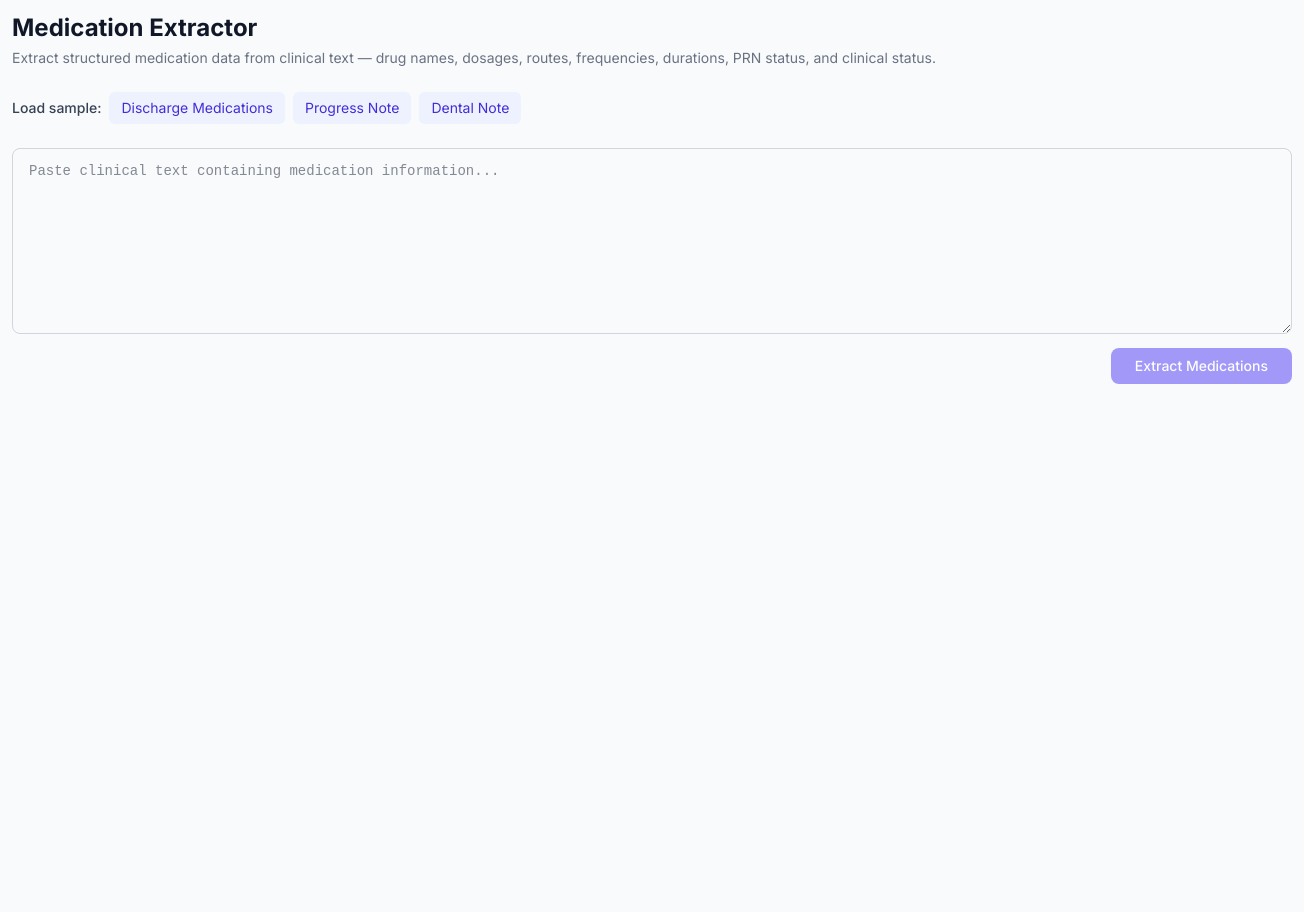
MedicationExtractor › shows medication indication
Type "test" into the text box with placeholder "Paste clinical text containing medication information...". click: point(652, 241)
box: [12,148,1292,334]
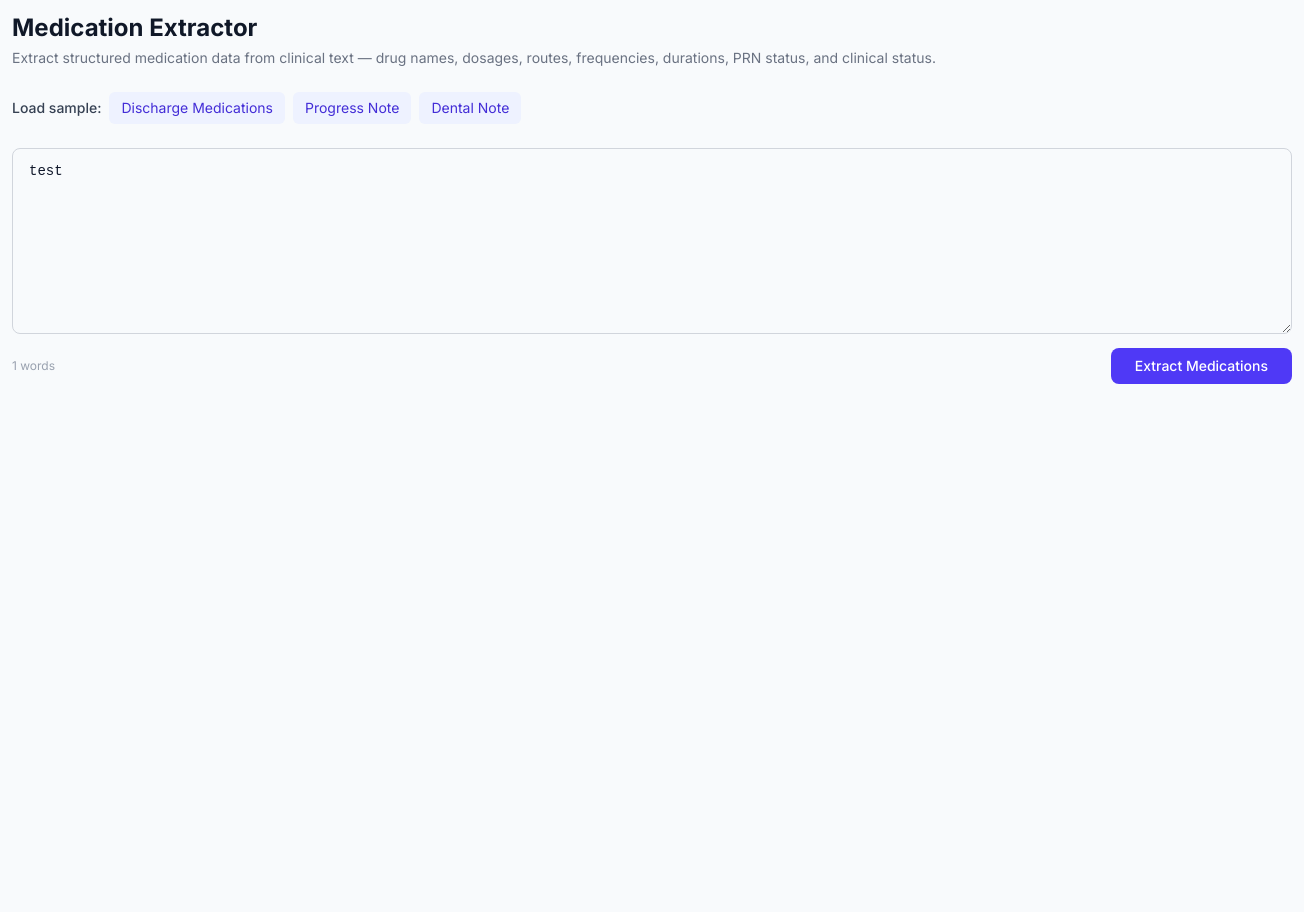
Click the button "Extract Medications". click: point(1201, 366)
box: [1111,348,1292,384]
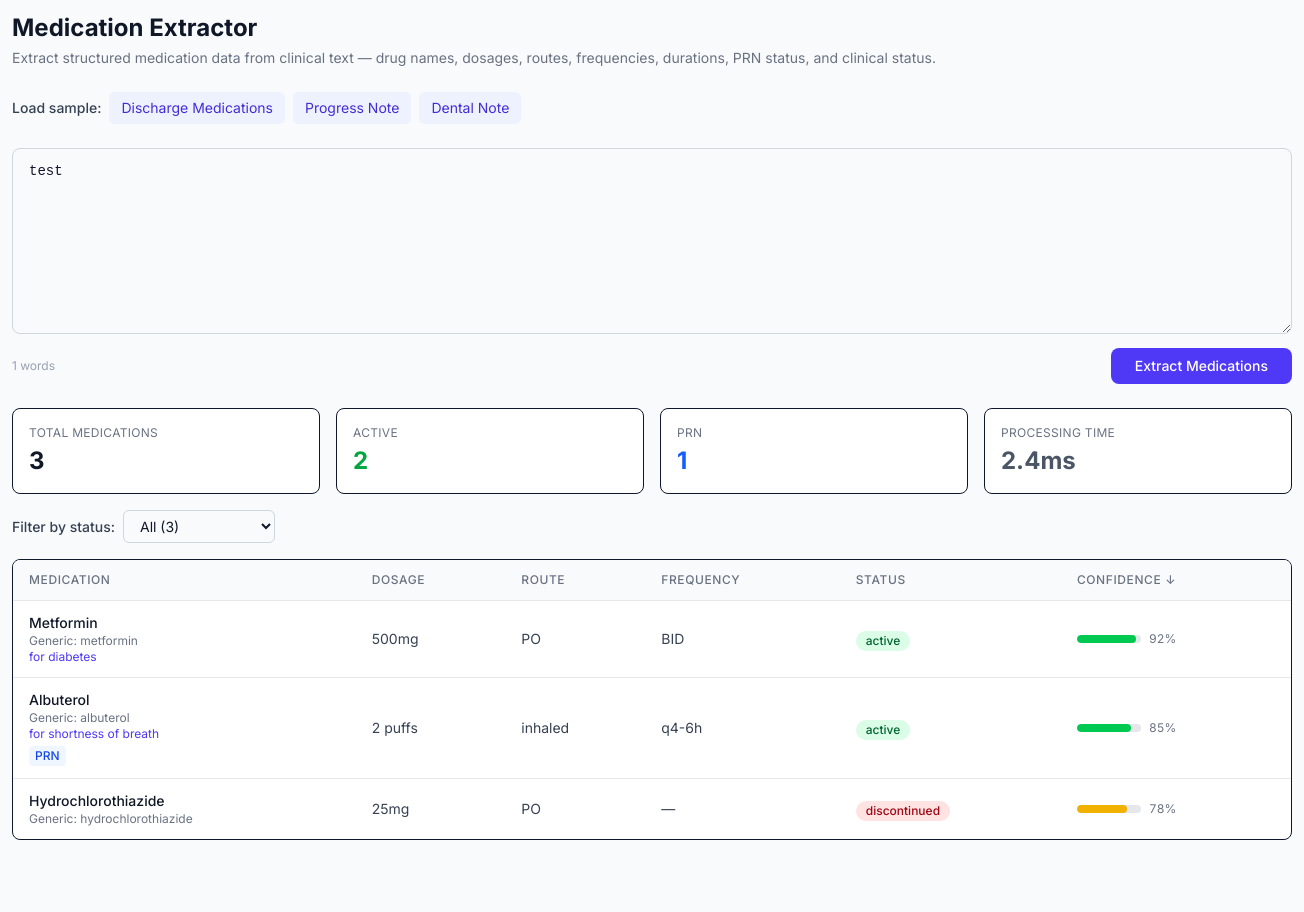
Check: the text "for diabetes" is shown, box [29,649,97,664]
